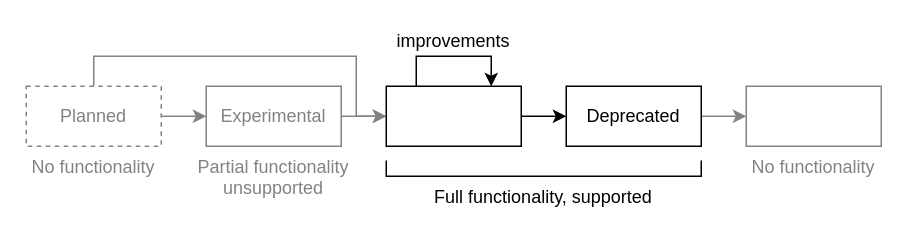
Image size: 908x246. Some labels were removed from this diagram. Here are the shapes that lost their labels. From the top down, the box of each, then its label:
(385, 85, 521, 146): Regular
(745, 85, 881, 146): Obsolete (removed)
